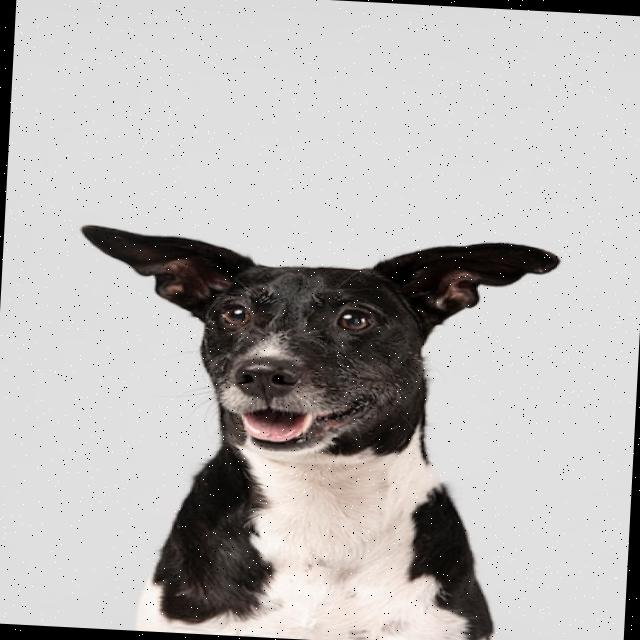Dog: (60, 220, 562, 640)
